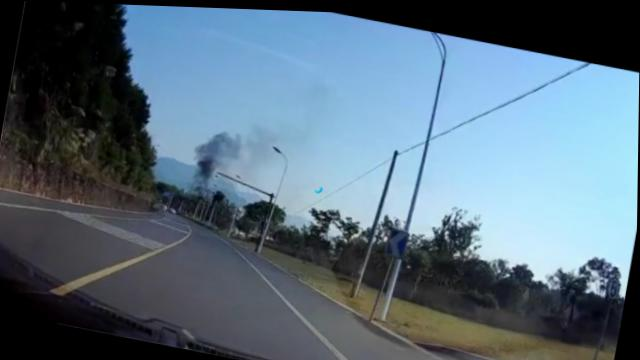smoke: (183, 121, 245, 197)
